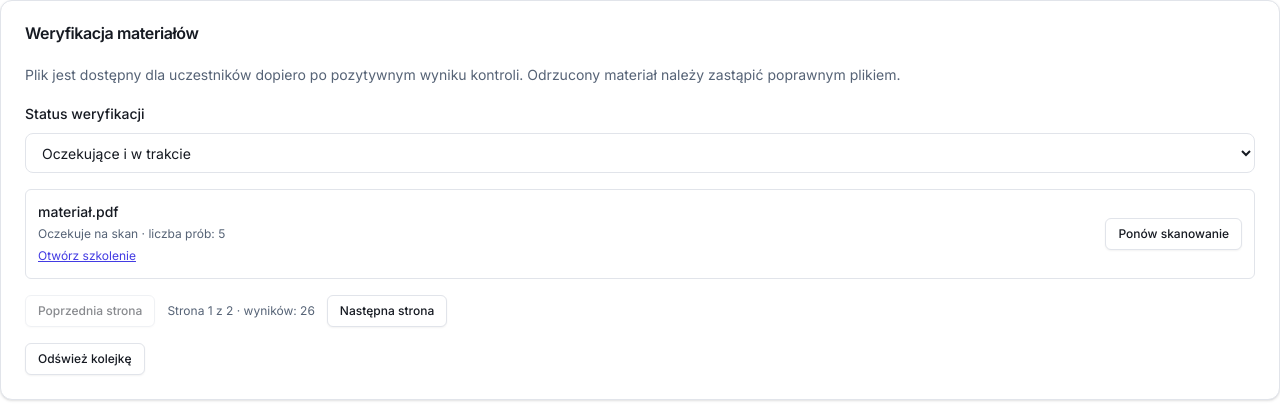
Test case: scan queue interaction › changes pages and resets to page 1 when the filter changes
The width and height of the screenshot is (1280, 418).
Expected: the text "materiał.pdf" is shown, [38, 203, 119, 220]
Expected: the button "Poprzednia strona" is disabled, [25, 295, 155, 327]
Click the button "Następna strona" at (387, 311), box [327, 295, 447, 327]
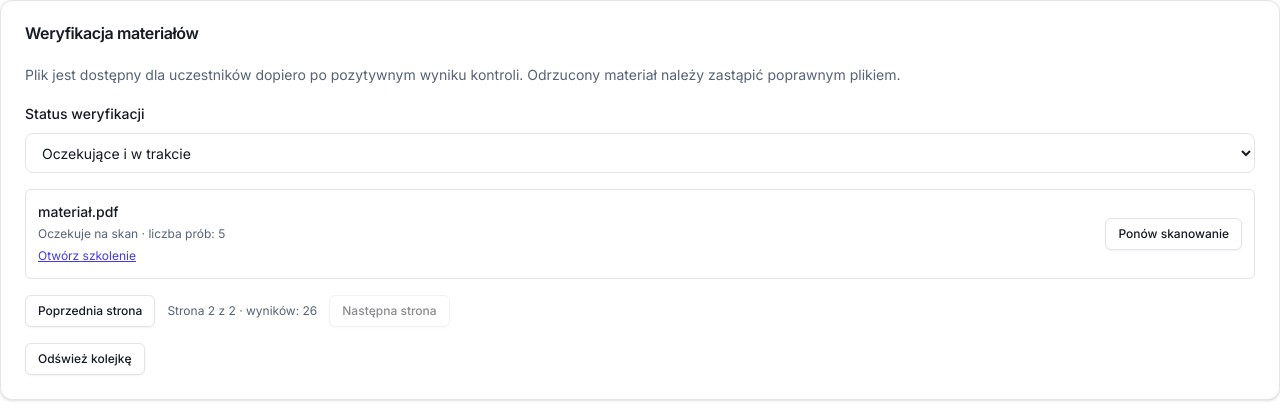
Expected: the text "Strona 2 z 2 · wyników: 26" is shown, [167, 303, 317, 319]
Expected: the button "Następna strona" is disabled, [329, 295, 450, 327]
Select "Wyczerpane próby — wymagają uwagi" in the dropdown labelled "Status weryfikacji" at (640, 153), box [25, 133, 1255, 173]
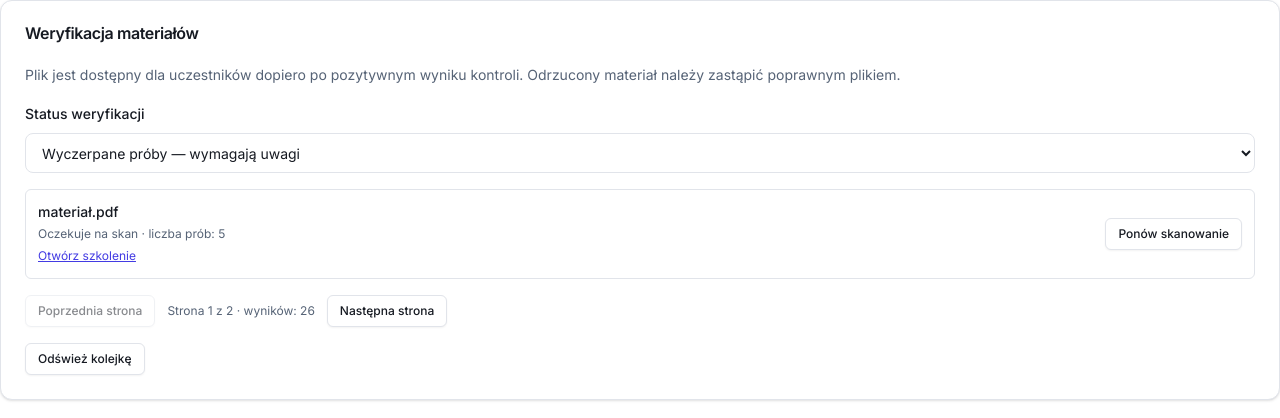
Expected: the text "Strona 1 z 2 · wyników: 26" is shown, [167, 303, 315, 319]
